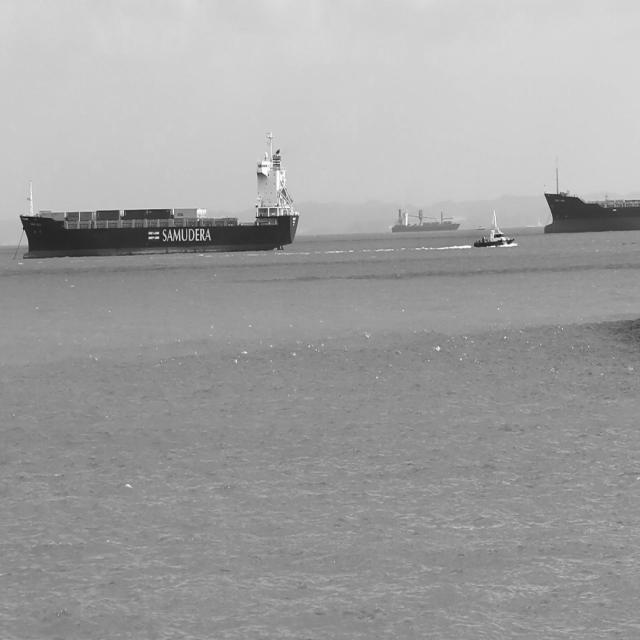boat: (490, 208, 498, 231)
ship: (19, 129, 299, 259), (544, 158, 639, 234), (391, 207, 462, 234), (472, 228, 516, 250), (476, 225, 485, 231)
